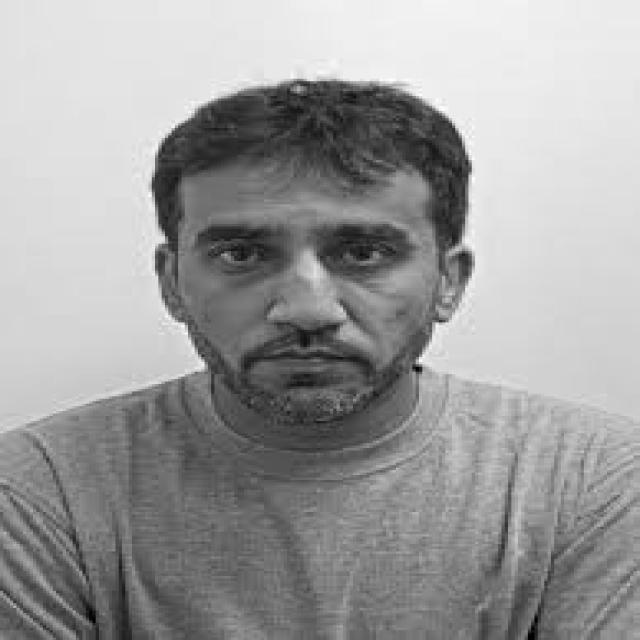without_mask: (172, 170, 442, 426)
